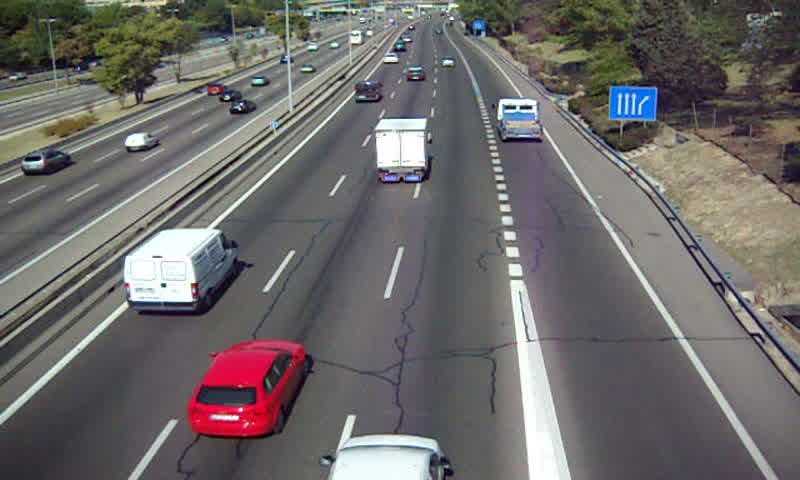car: (188, 339, 306, 437), (405, 65, 426, 82), (382, 52, 398, 66), (441, 56, 457, 69)
small-truck: (374, 118, 430, 182), (494, 98, 542, 139)
van: (124, 229, 237, 317), (354, 78, 384, 103)
